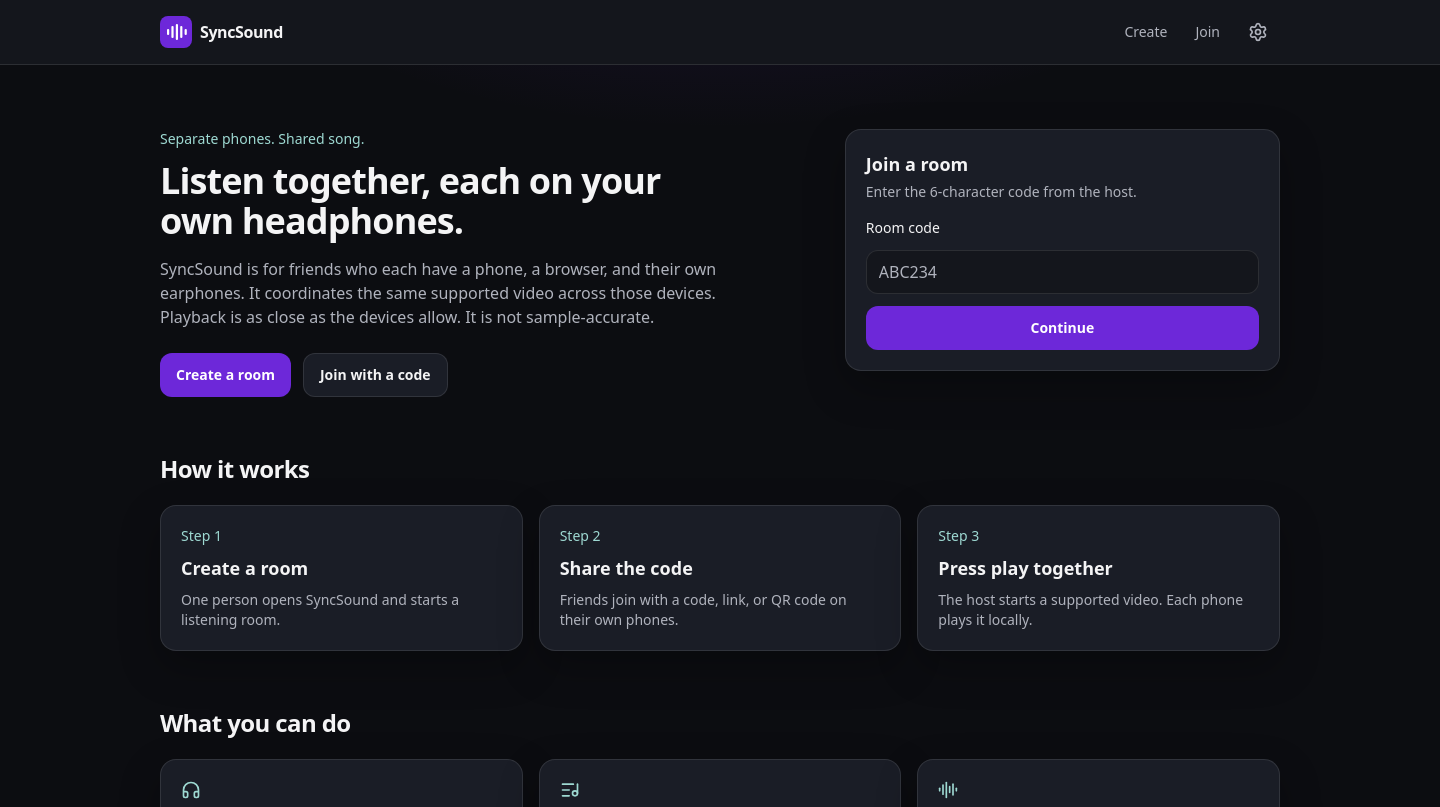
it: landing page › explains separate-phone listening and checks the room code
This screenshot has width=1440, height=807.
Expected: the heading "Listen together, each on your own headphones." is shown, [160, 161, 736, 241]
Expected: the link "Create a room" is shown, [160, 353, 291, 397]
Type "IIIII1" into the field labelled "Room code".
click(1062, 272); type("IIIII1")  # box [866, 250, 1259, 294]
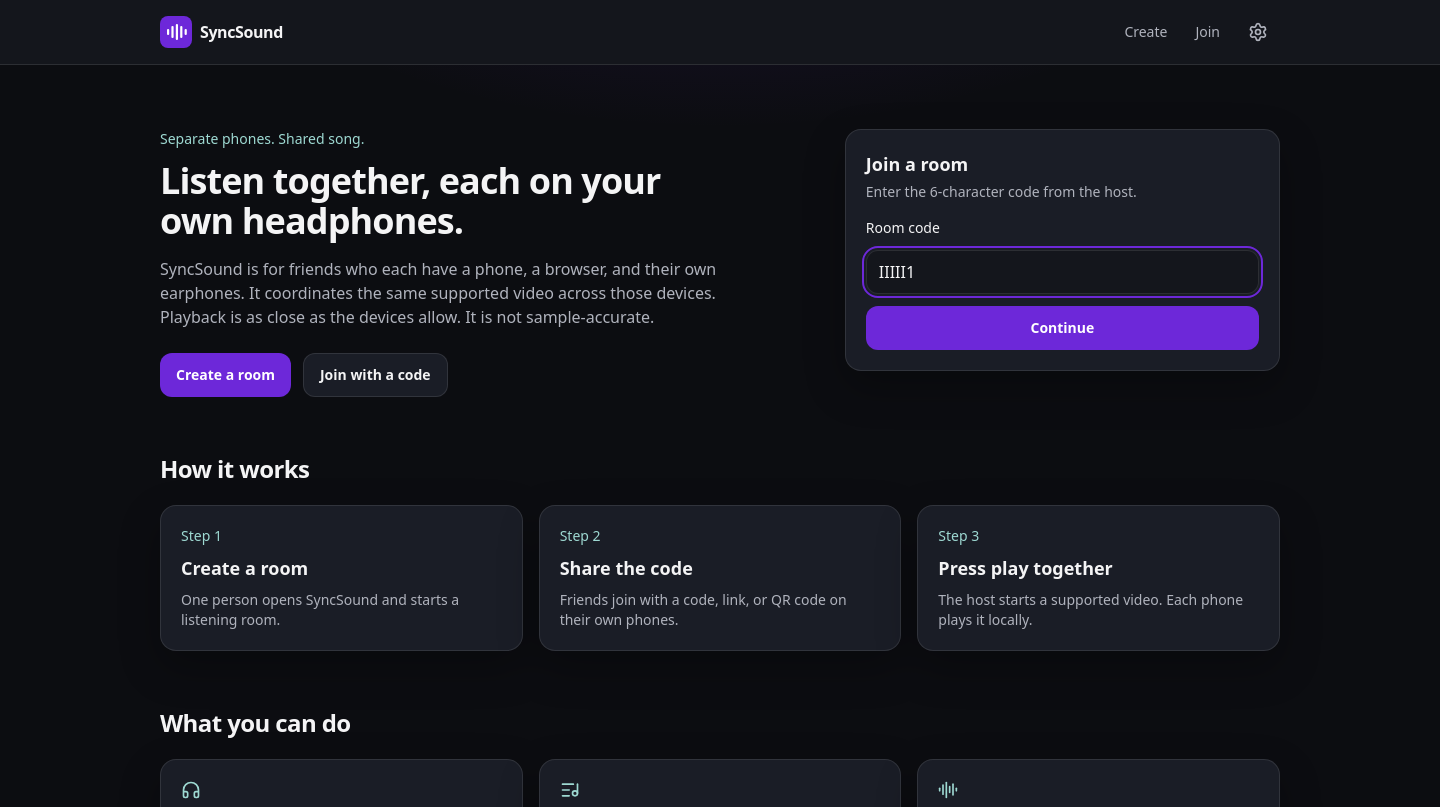
Click the button "Continue".
click(1062, 328)  # box [866, 306, 1259, 350]
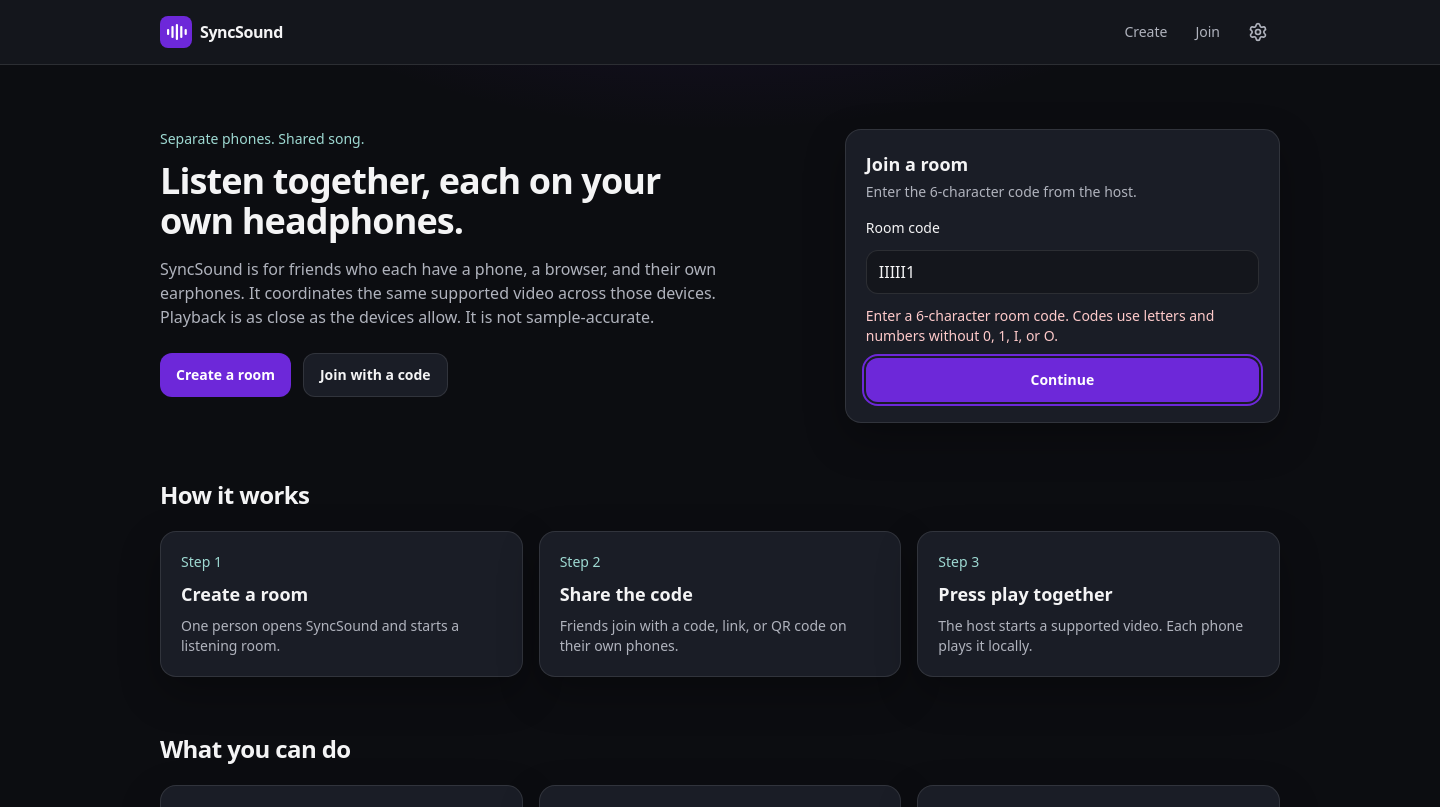
Expected: the message shows "6-character", [866, 306, 1214, 345]
